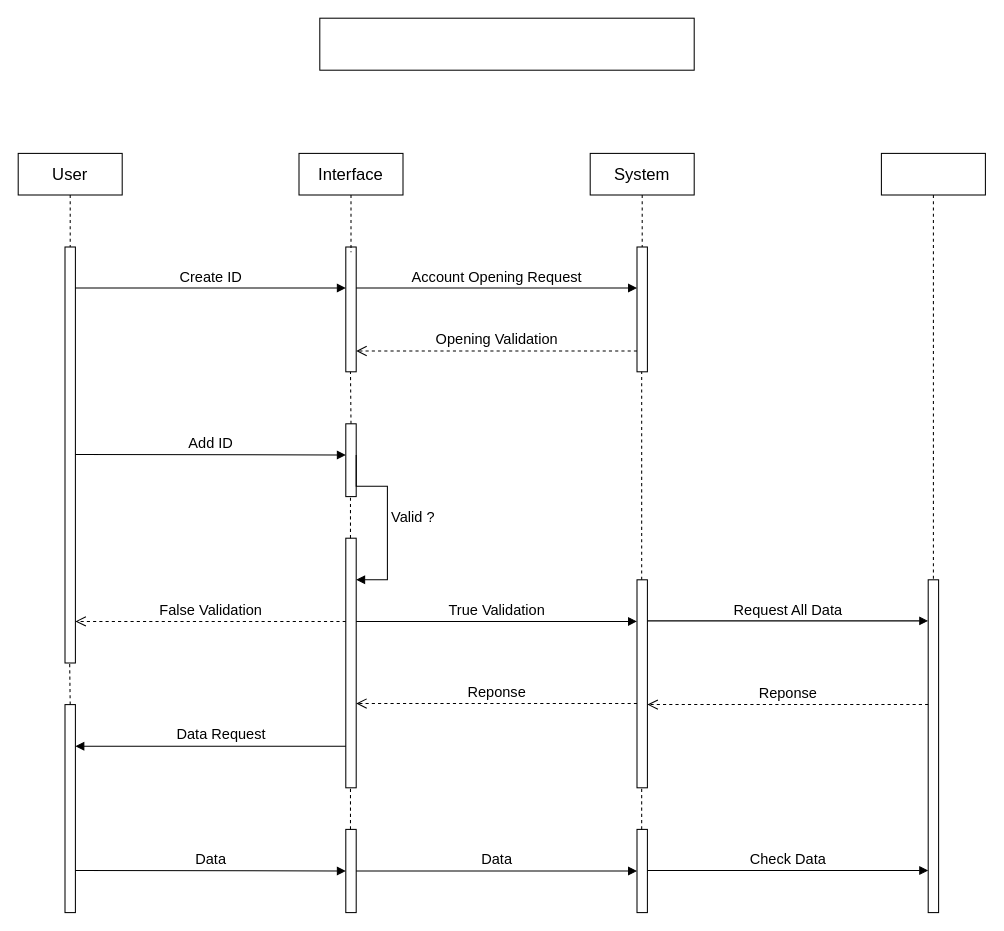
Image size: 1004x931. Some labels were removed from this diagram. Each missing label, with the box of its shape:
Data Base: (880, 152, 985, 580)
User Registration: (319, 17, 694, 70)
